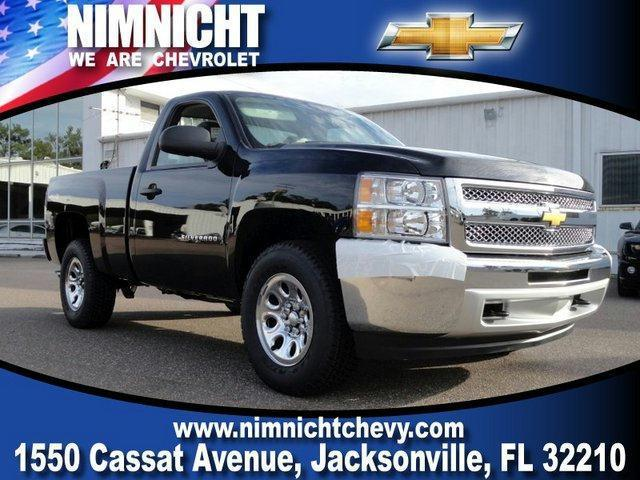Car: (39, 82, 607, 398), (610, 204, 639, 307)
